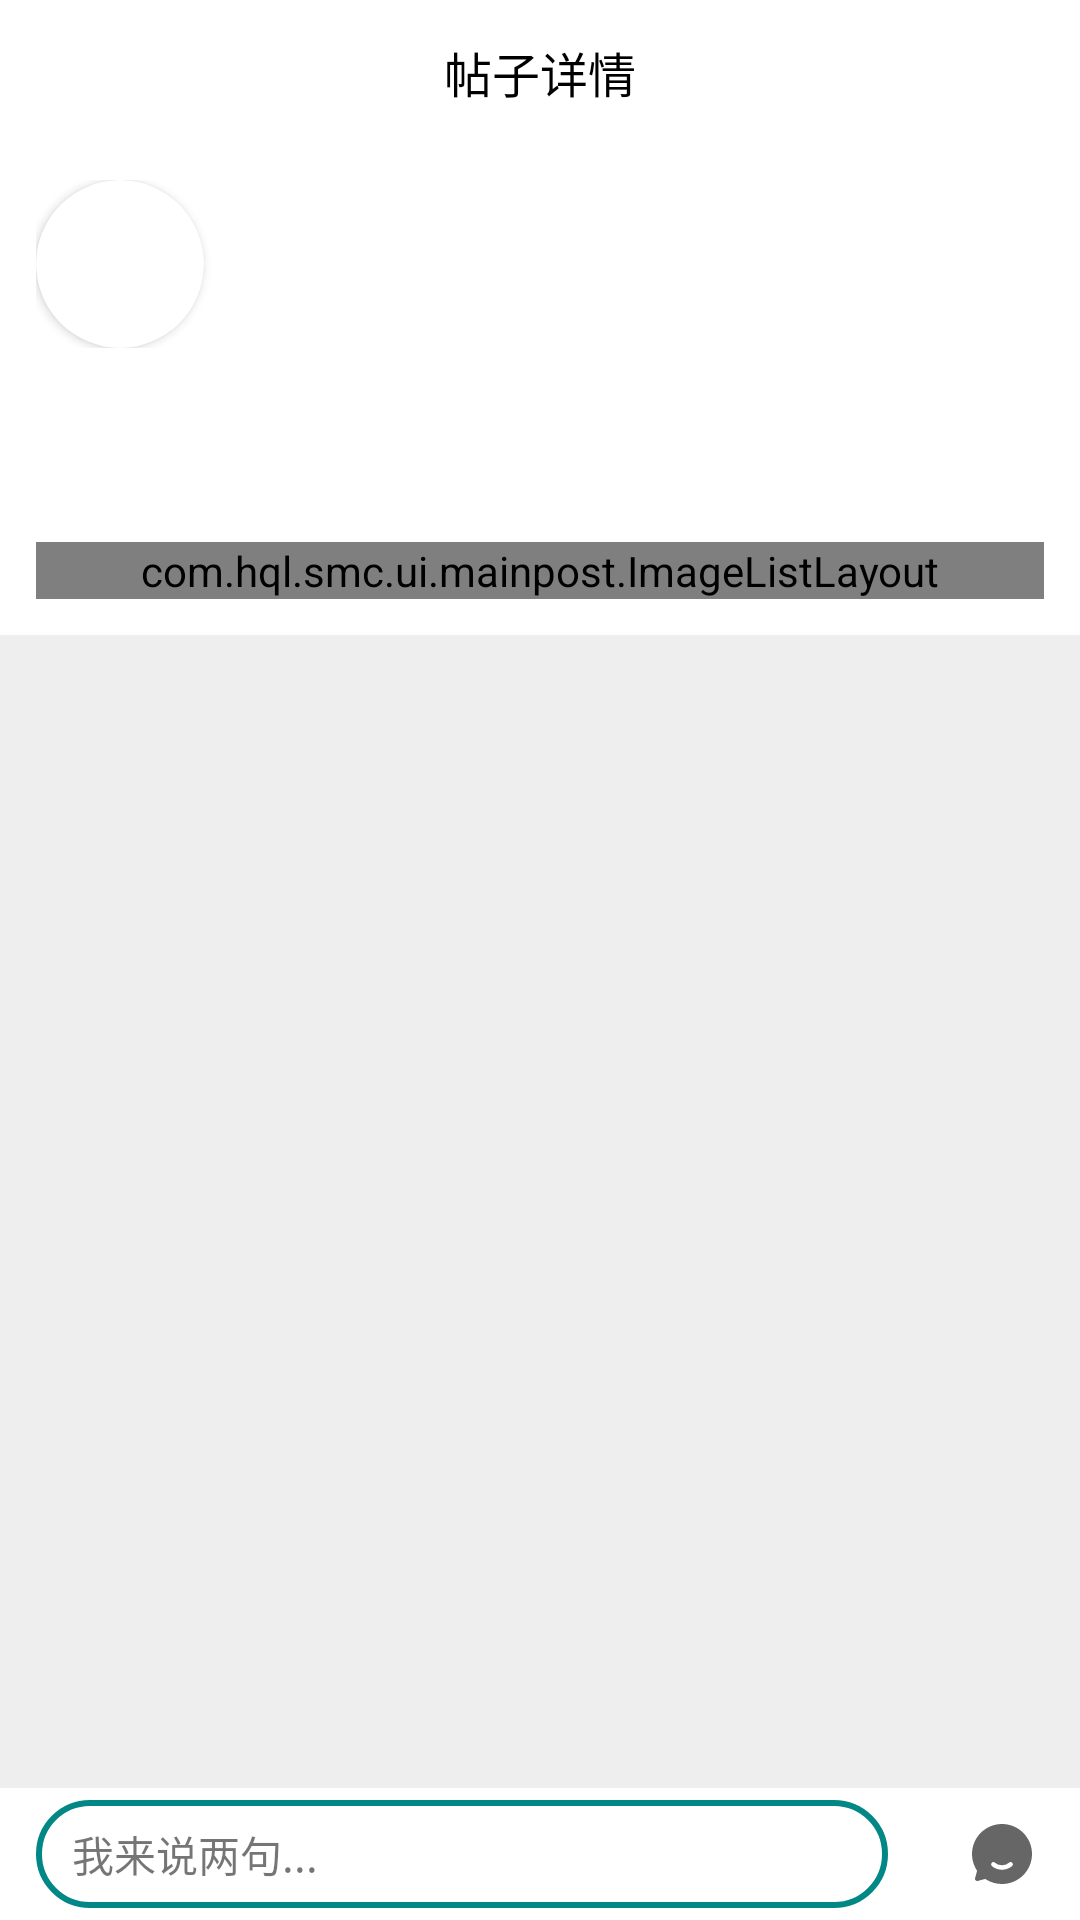

Icons on this 1080x1920 Android screen, each with its box as (x1, y1, x2, y2):
comment: (972, 1824, 1032, 1884)
